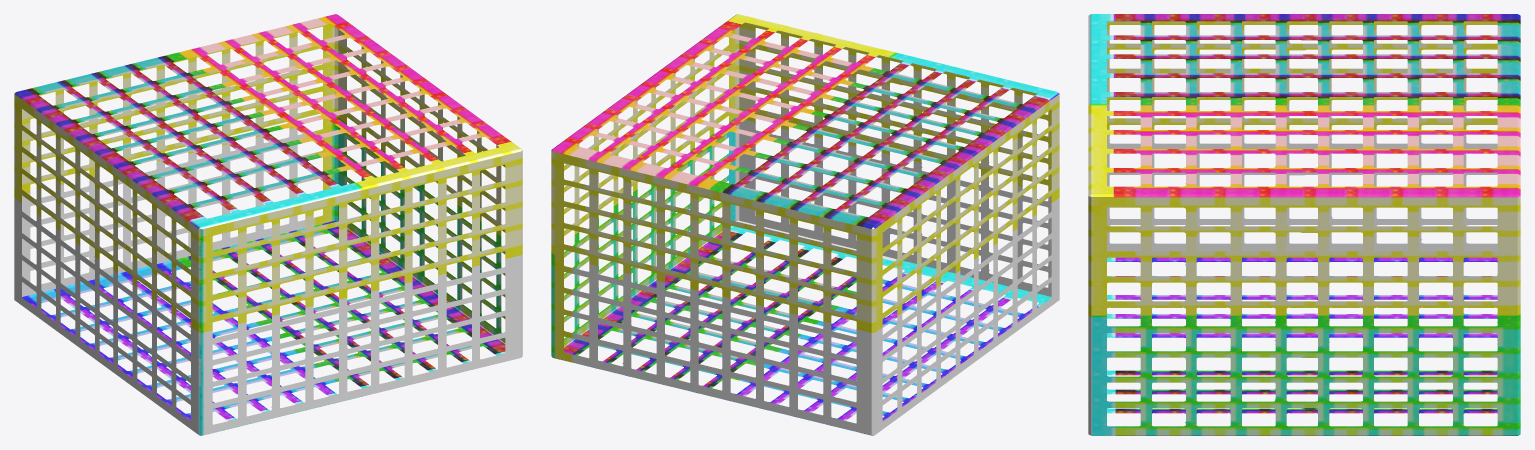
Rendered from cage.fbx.
The picture shows the model from 3 angles, left to right: view 1: azimuth 30°, elevation 25°; view 2: azimuth 150°, elevation 25°; view 3: azimuth 270°, elevation 25°; orthographic projection. The views are drawn at different scales.
Parts seen in each view (by area): view 1: cage; view 2: cage; view 3: cage.
Part boxes in pixels (x1,y1,x2,y2): cage: (14,14,522,435); cage: (551,14,1059,435); cage: (1088,14,1520,435).
Bounding box in the file's own units: 59.97 × 37 × 59.97.
